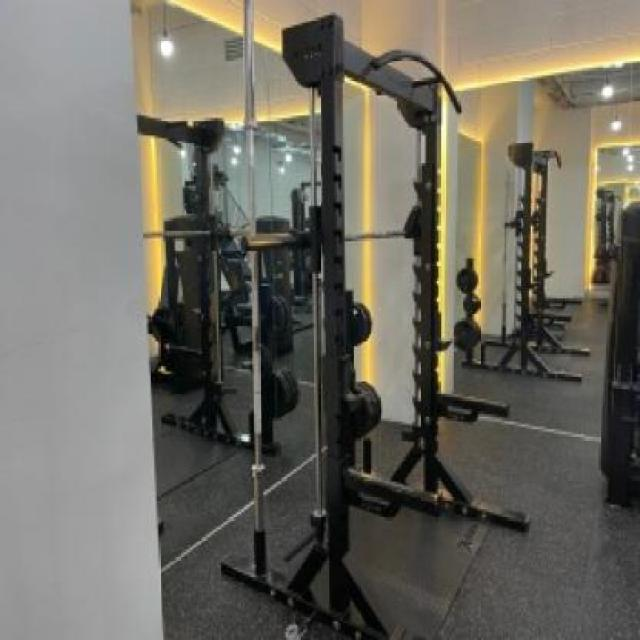smith machine: (240, 0, 465, 640)
